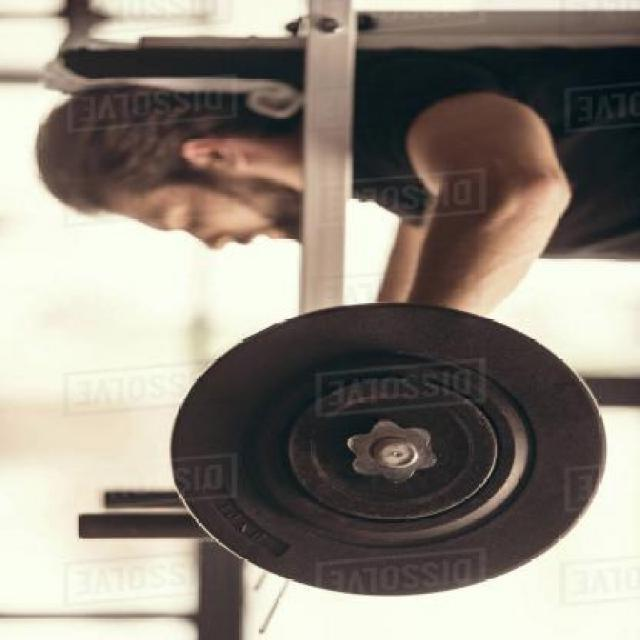Barbell: (368, 436, 426, 470)
